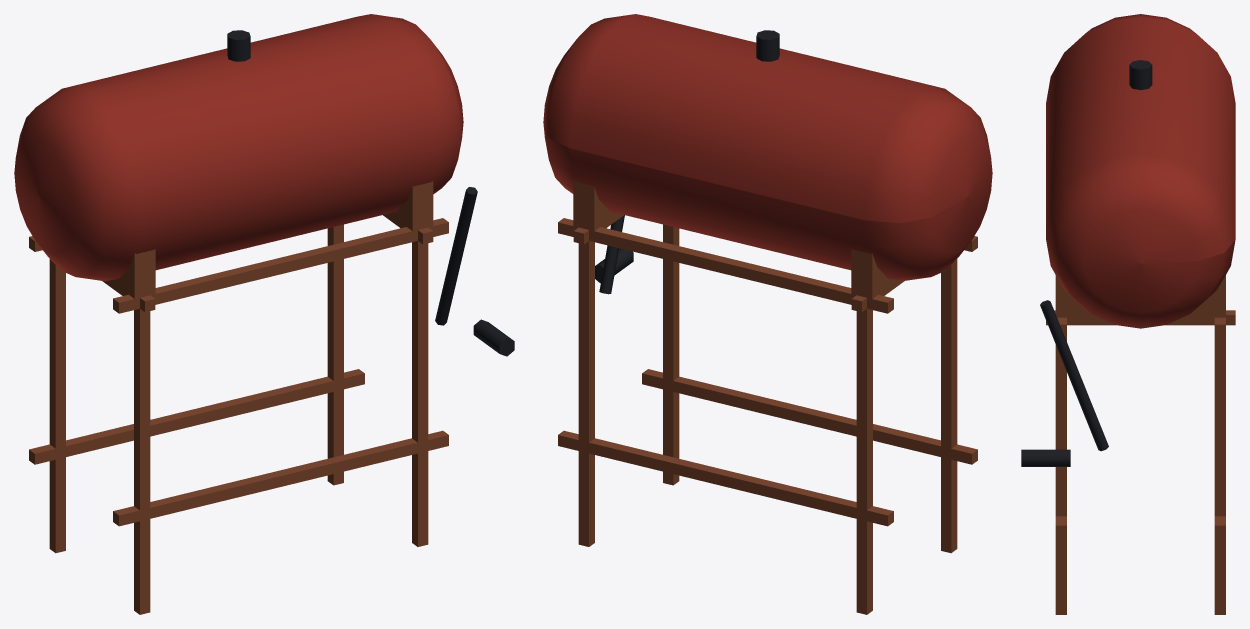
The model's file is toaster_fuel_tank.glb.
3 renders of one model, left to right at view 1: azimuth 30°, elevation 25°; view 2: azimuth 150°, elevation 25°; view 3: azimuth 270°, elevation 25°, orthographic. The views are drawn at different scales.
Visible parts, largest first — view 1: toaster_fuel_tank_shell, toaster_fuel_tank_stand, toaster_fuel_tank_fittings; view 2: toaster_fuel_tank_shell, toaster_fuel_tank_stand, toaster_fuel_tank_fittings; view 3: toaster_fuel_tank_shell, toaster_fuel_tank_stand, toaster_fuel_tank_fittings.
Part boxes in pixels (x1=…): toaster_fuel_tank_shell: x1=14, y1=14, x2=463, y2=281; toaster_fuel_tank_stand: x1=29, y1=181, x2=448, y2=614; toaster_fuel_tank_fittings: x1=227, y1=30, x2=514, y2=356; toaster_fuel_tank_shell: x1=543, y1=14, x2=992, y2=281; toaster_fuel_tank_stand: x1=558, y1=180, x2=977, y2=614; toaster_fuel_tank_fittings: x1=595, y1=30, x2=779, y2=294; toaster_fuel_tank_shell: x1=1046, y1=14, x2=1235, y2=328; toaster_fuel_tank_stand: x1=1046, y1=275, x2=1235, y2=614; toaster_fuel_tank_fittings: x1=1021, y1=60, x2=1152, y2=466.
Size of the model in its own units: 2.37 by 2.81 by 1.13.
